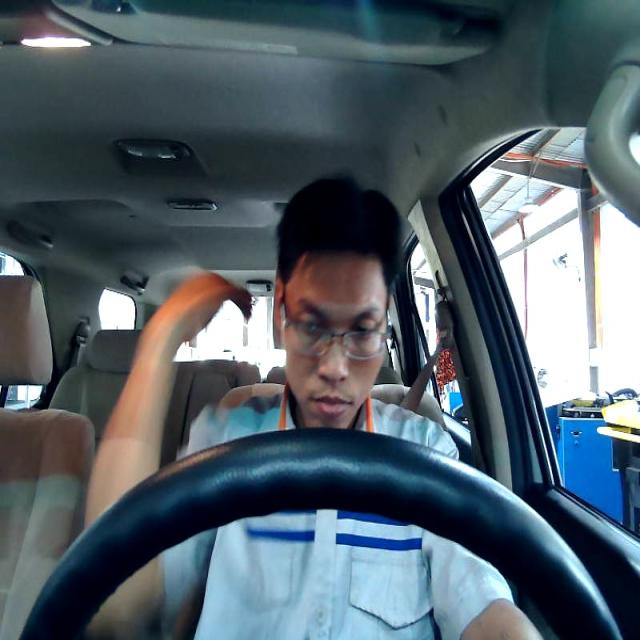focused: (274, 248, 388, 426)
